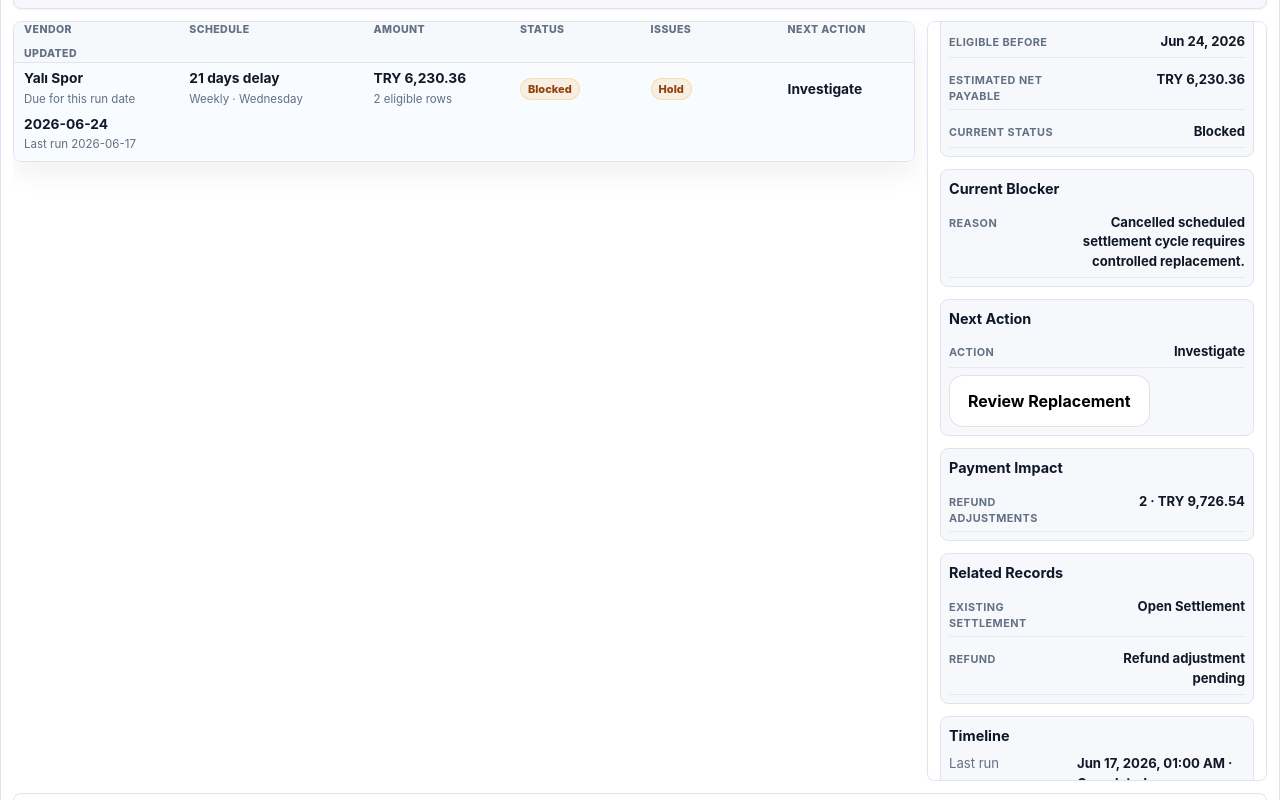
Test: AdminScheduledSettlementsPage › shows UNKNOWN assessment reasons without a create action
The width and height of the screenshot is (1280, 800).
(page scrolled)
Click the button "Review Replacement" at (1049, 401), box [949, 375, 1150, 427]
(page scrolled)
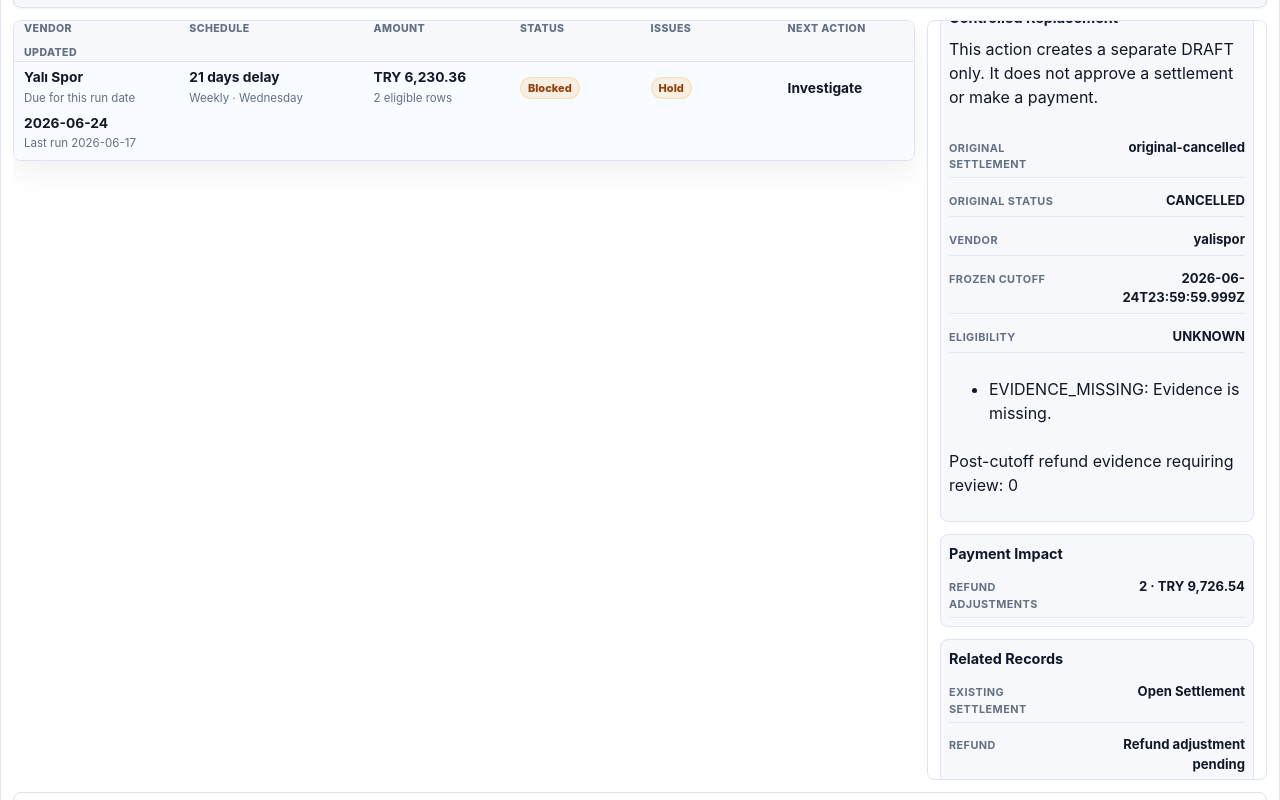
Now the text "UNKNOWN" is shown, box [1173, 328, 1245, 344]
Now the list item "EVIDENCE_MISSING: Evidence is missing." is shown, box [989, 377, 1245, 425]
